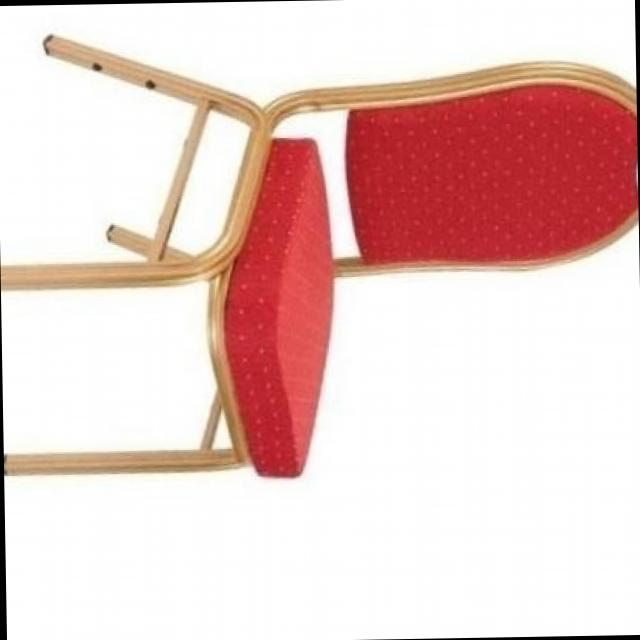Chair: (0, 23, 640, 492)
